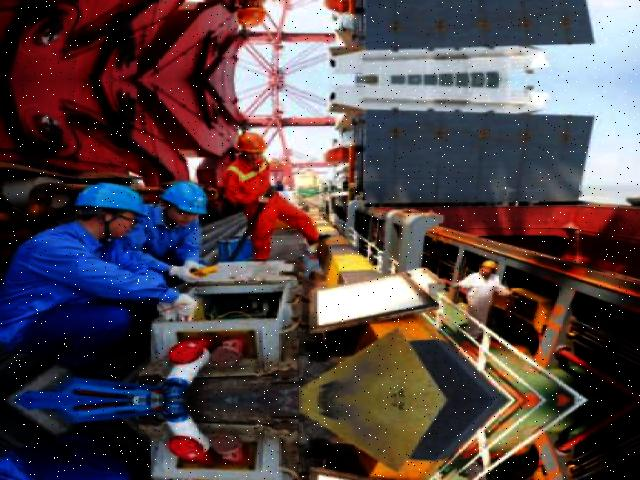Helmet: (72, 178, 158, 221), (158, 176, 215, 219), (232, 131, 272, 154)
